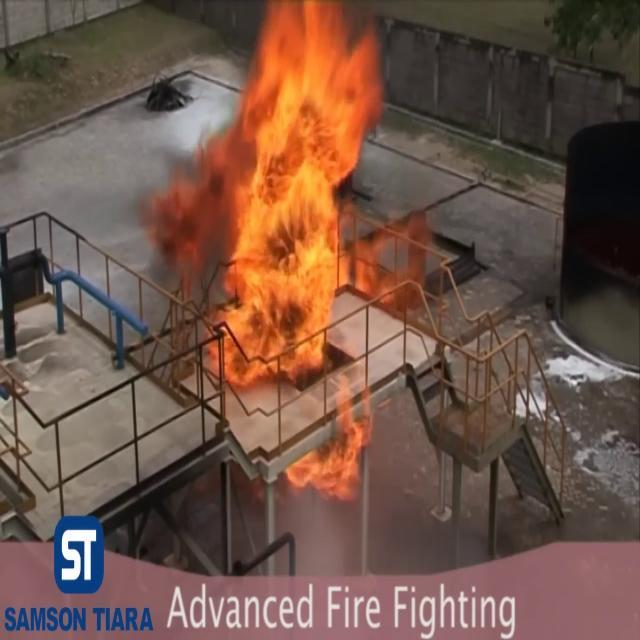Fire: (186, 1, 397, 388)
